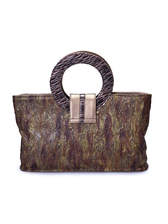bag: (11, 51, 151, 173)
